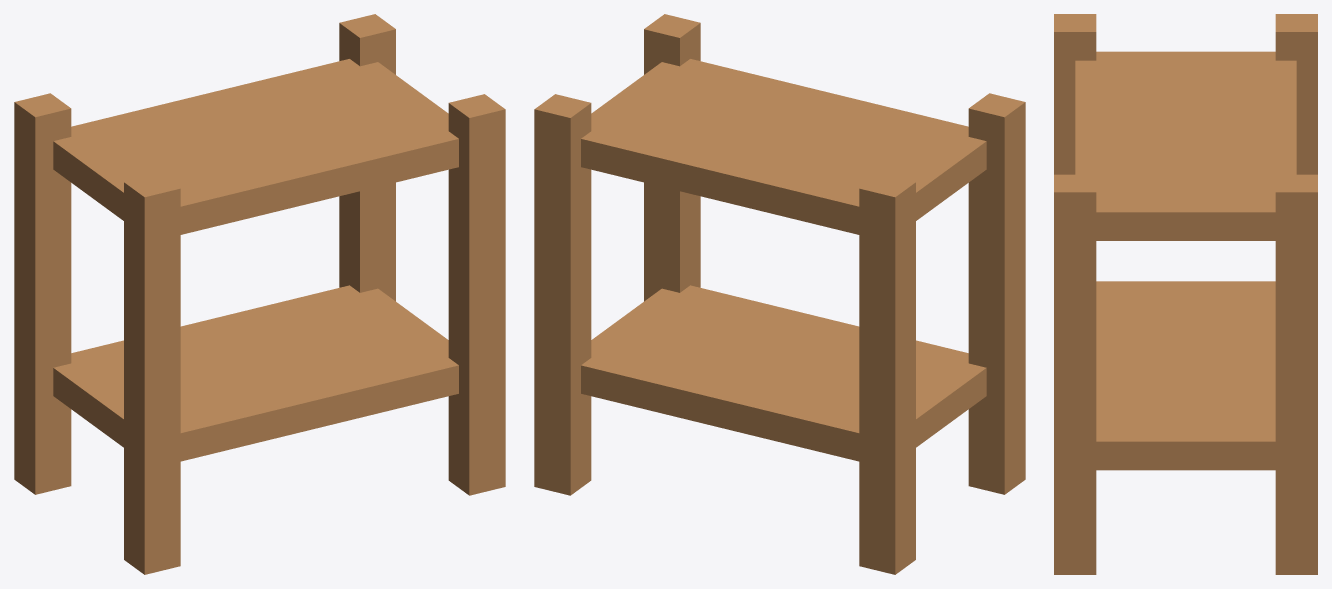
The model's file is kitBookcaseOpenLow.glb.
3 views of the same model, side by side, from view 1: azimuth 30°, elevation 25°; view 2: azimuth 150°, elevation 25°; view 3: azimuth 270°, elevation 25° (orthographic).
Visible parts, largest first — view 1: kitBookcaseOpenLow_wood; view 2: kitBookcaseOpenLow_wood; view 3: kitBookcaseOpenLow_wood.
Boxes of the visible parts, <box> form: kitBookcaseOpenLow_wood: <box>14,14,505,574</box>; kitBookcaseOpenLow_wood: <box>534,14,1025,574</box>; kitBookcaseOpenLow_wood: <box>1054,14,1317,574</box>.
Bounding box in the file's own units: 0.8 × 0.8 × 0.5.
